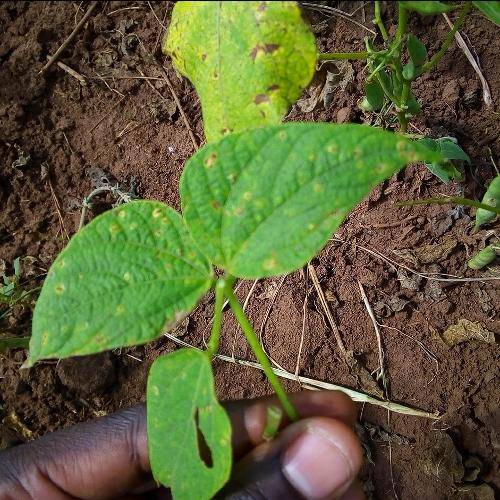hawar: (183, 122, 393, 239), (166, 0, 302, 100)
mozaik: (186, 400, 225, 474)
